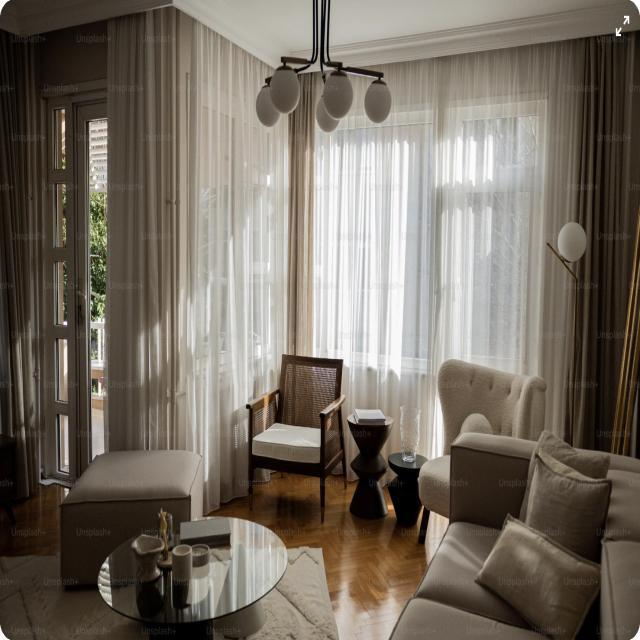book: (178, 514, 233, 550), (352, 403, 386, 425)
bottle: (398, 402, 422, 463)
chair: (245, 348, 344, 520)
lamp: (252, 44, 392, 134), (549, 216, 584, 438)
pillow: (469, 509, 608, 640), (524, 451, 617, 568)
